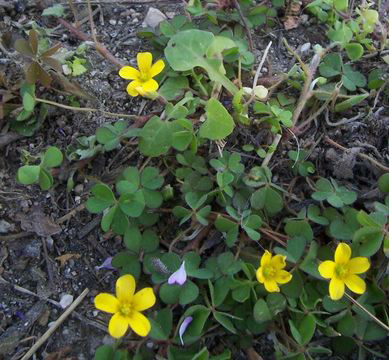oxalis: (82, 32, 381, 347)
